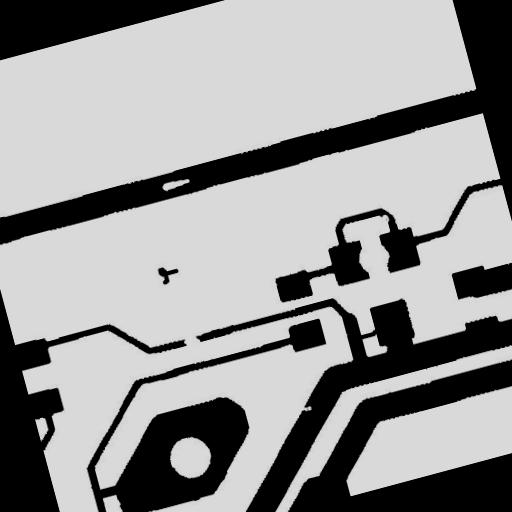copper: (148, 254, 190, 294)
mousebite: (291, 394, 321, 421), (372, 204, 399, 232)
open: (173, 324, 209, 355)
pin-hole: (152, 167, 199, 200)
short: (84, 472, 132, 508), (348, 320, 386, 348)
